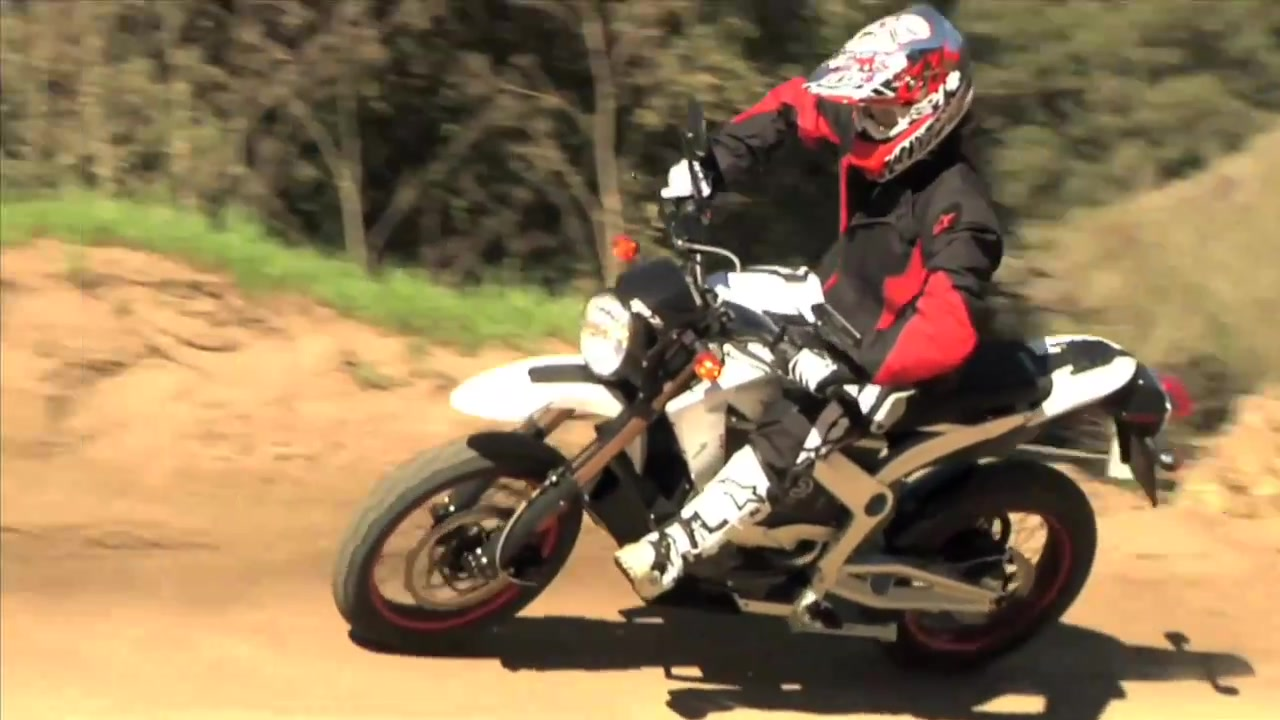motorbike: (332, 94, 1190, 660)
